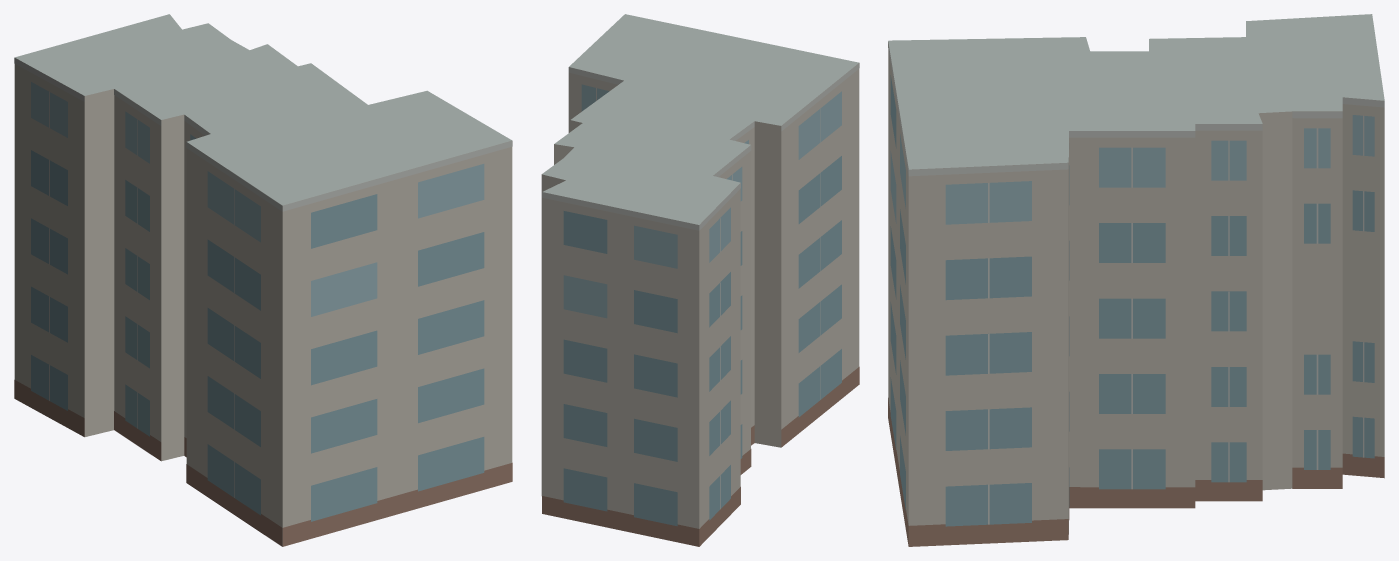
The model's file is survey-upis-32587245.glb.
The picture shows the model from 3 angles, left to right: view 1: azimuth 30°, elevation 25°; view 2: azimuth 150°, elevation 25°; view 3: azimuth 270°, elevation 25°; orthographic projection. The views are drawn at different scales.
Parts seen in each view (by area): view 1: survey-upis-32587245.tmp; view 2: survey-upis-32587245.tmp; view 3: survey-upis-32587245.tmp.
Boxes of the visible parts, x1,y1,x2,y2 form: survey-upis-32587245.tmp: (14, 14, 512, 546); survey-upis-32587245.tmp: (541, 14, 859, 546); survey-upis-32587245.tmp: (888, 14, 1384, 546).
Size of the model in its own units: 12.13 by 13.7 by 16.35.
